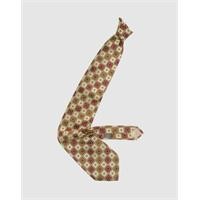tie: (57, 17, 144, 180)
